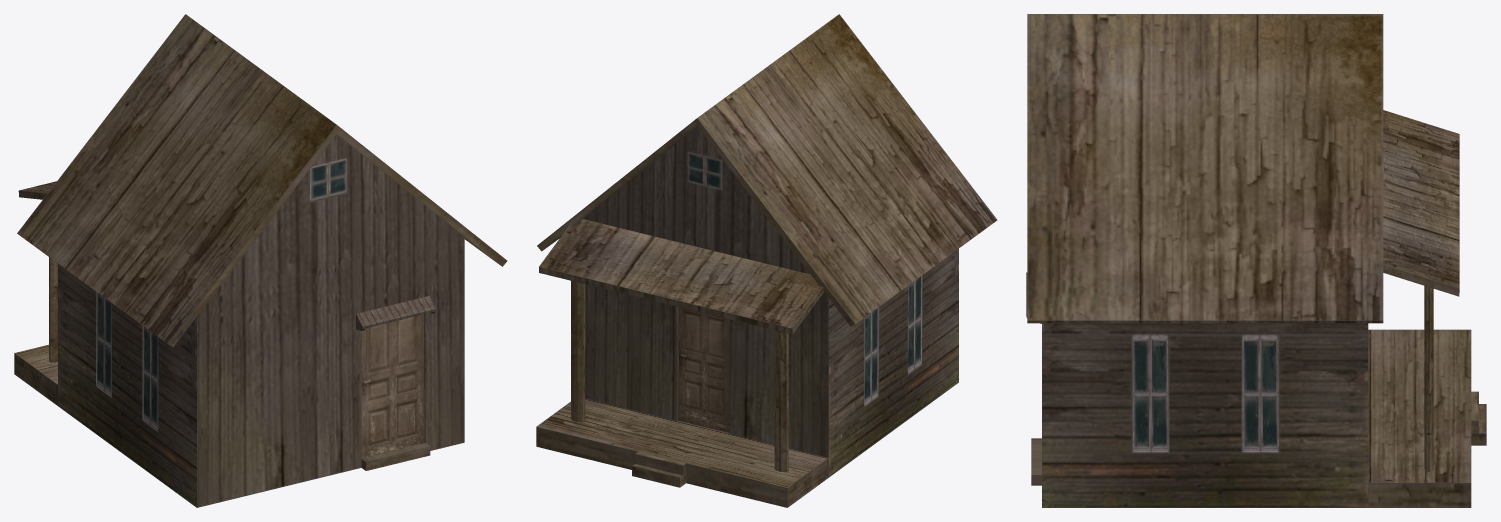
Rendered from Farmhouse OBJ-normalized.obj.
The picture shows the model from 3 angles, left to right: view 1: azimuth 30°, elevation 25°; view 2: azimuth 150°, elevation 25°; view 3: azimuth 270°, elevation 25°; orthographic projection. The views are drawn at different scales.
Parts seen in each view (by area): view 1: polySurface73; view 2: polySurface73; view 3: polySurface73.
Boxes of the visible parts, <box> form: polySurface73: <box>14,14,507,507</box>; polySurface73: <box>536,14,997,507</box>; polySurface73: <box>1026,14,1486,507</box>.
Size of the model in its own units: 1 by 1 by 1.
